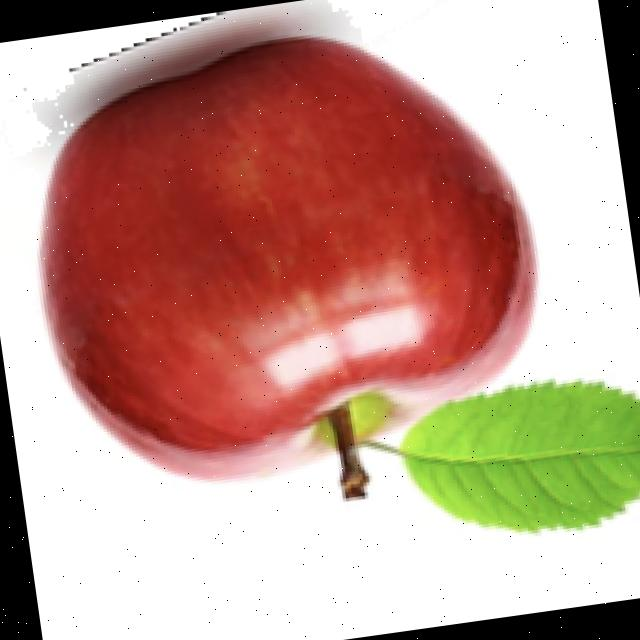apple: (19, 0, 640, 539)
